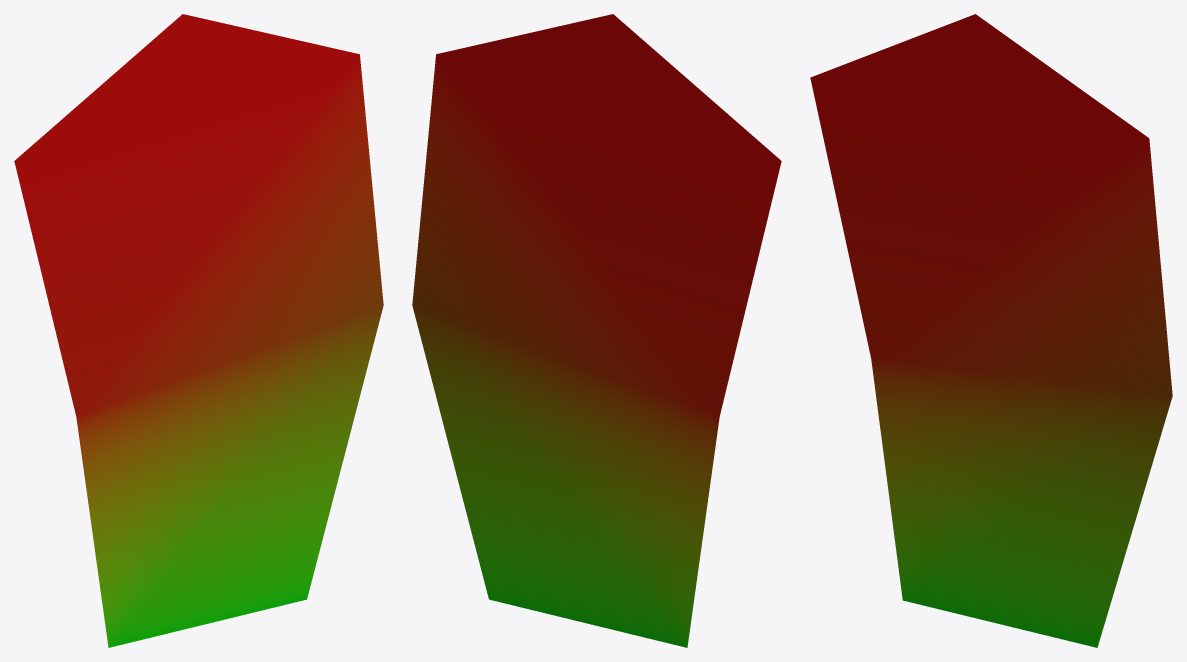
File: Var2_LOD3.fbx
3 renders of one model, left to right at view 1: azimuth 30°, elevation 25°; view 2: azimuth 150°, elevation 25°; view 3: azimuth 330°, elevation 25°, orthographic.
Visible parts, largest first — view 1: _1776_Var2_LOD3; view 2: _1776_Var2_LOD3; view 3: _1776_Var2_LOD3.
Boxes of the visible parts, x1,y1,x2,y2 form: _1776_Var2_LOD3: (14,14,383,647); _1776_Var2_LOD3: (412,14,781,647); _1776_Var2_LOD3: (810,14,1172,647).
Bounding box in the file's own units: 94.72 × 151 × 3.55e-05.
